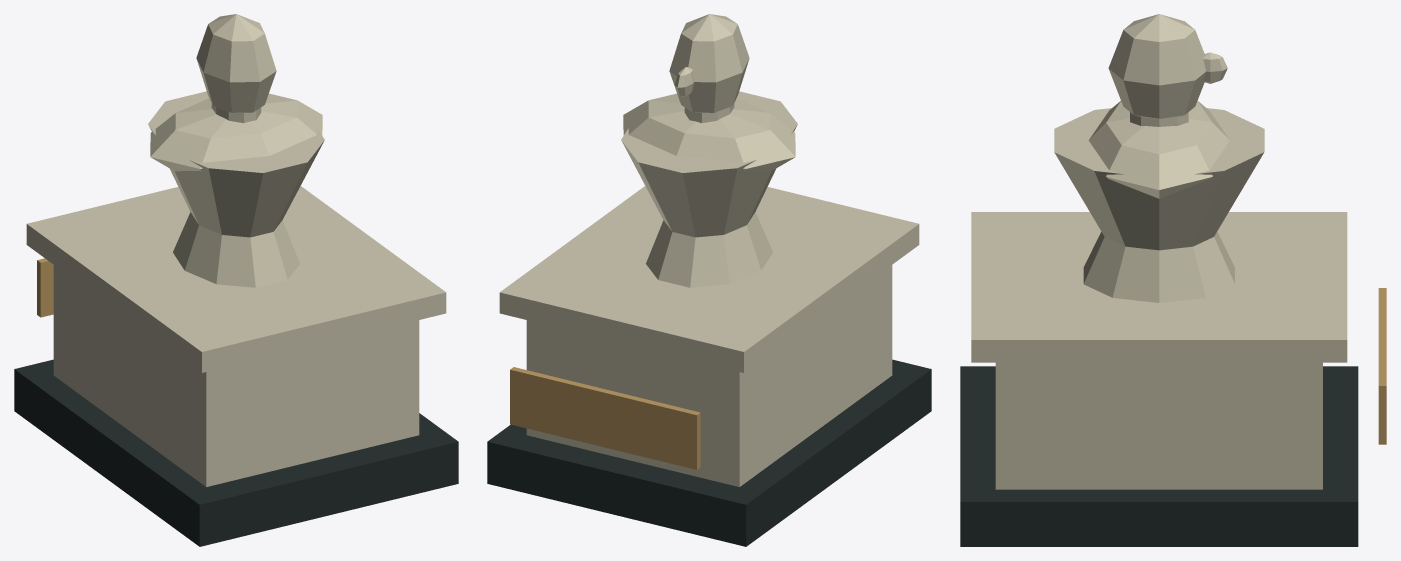
File: LP_GreeceRome_ClassicalStatue.fbx
3 views of the same model, side by side, from view 1: azimuth 30°, elevation 25°; view 2: azimuth 150°, elevation 25°; view 3: azimuth 270°, elevation 25° (orthographic). The views are drawn at different scales.
Visible parts, largest first — view 1: M_Central_Limestone, Charcoal, AgedBrass; view 2: M_Central_Limestone, Charcoal, AgedBrass; view 3: M_Central_Limestone, Charcoal, AgedBrass.
Part boxes in pixels (<box>): M_Central_Limestone: <box>26,14,446,486</box>; Charcoal: <box>14,359,458,546</box>; AgedBrass: <box>37,258,53,317</box>; M_Central_Limestone: <box>499,14,919,486</box>; Charcoal: <box>487,359,931,546</box>; AgedBrass: <box>510,367,700,469</box>; M_Central_Limestone: <box>971,14,1347,489</box>; Charcoal: <box>960,366,1358,546</box>; AgedBrass: <box>1378,288,1386,444</box>.
Bounding box in the file's own units: 150 × 240 × 199.
